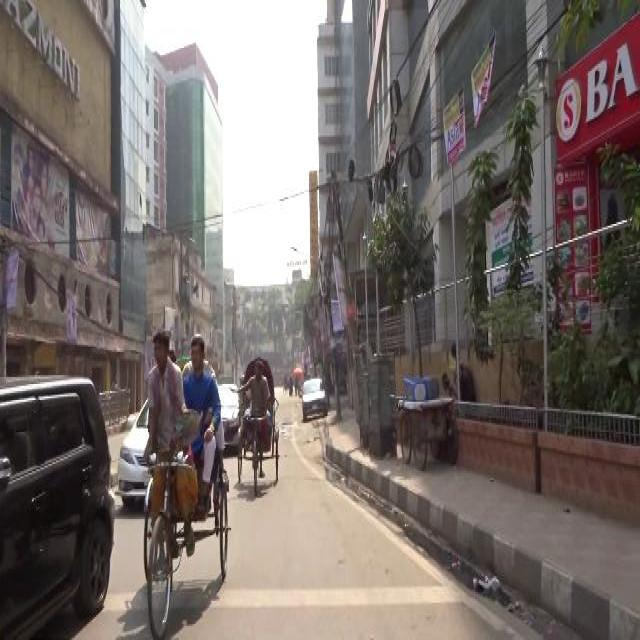car: (0, 372, 114, 630), (116, 389, 150, 507), (218, 380, 240, 460), (300, 372, 326, 420)
rickshaw: (136, 321, 230, 639), (395, 370, 459, 473), (236, 354, 278, 499)
